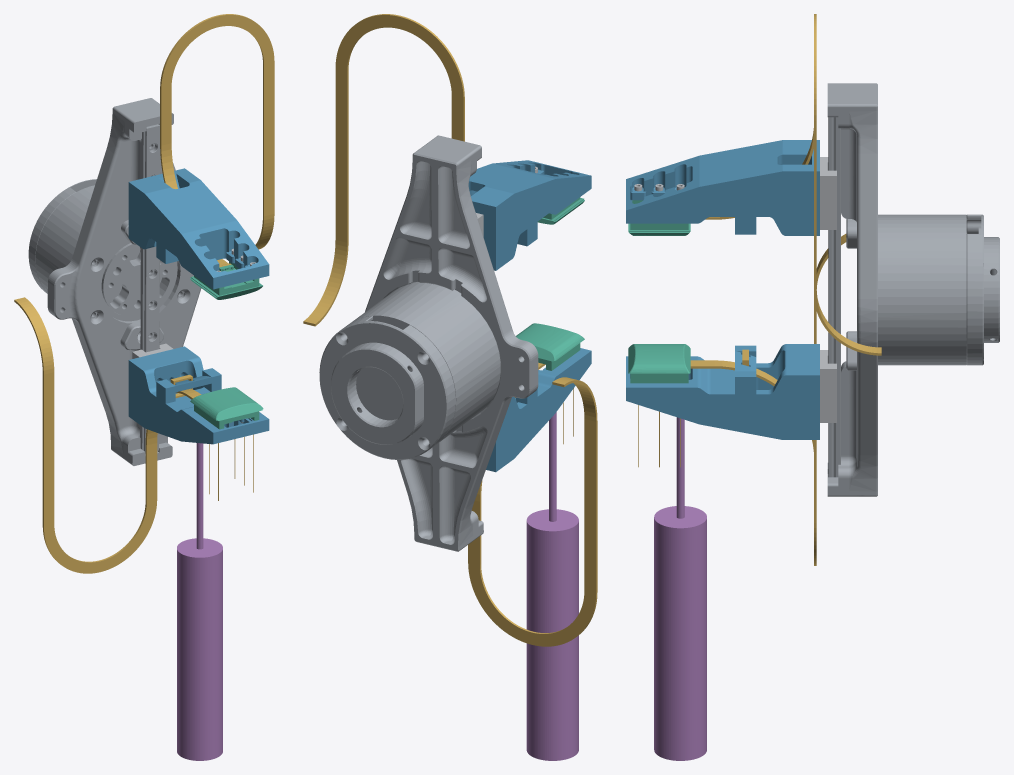
File: sensor_screw_access.glb
3 views of the same model, side by side, from view 1: azimuth 30°, elevation 25°; view 2: azimuth 150°, elevation 25°; view 3: azimuth 270°, elevation 25° (orthographic). The views are drawn at different scales.
Visible parts, largest first — view 1: original_actuator_and_transmission, S3_driver_reference_with_assumed_handle, replacement_finger_2, replacement_finger_1, service_loop_envelope_1, service_loop_envelope_2, M2324_1, M2324_2, moving_harness_envelope_2; view 2: original_actuator_and_transmission, S3_driver_reference_with_assumed_handle, replacement_finger_2, service_loop_envelope_2, service_loop_envelope_1, replacement_finger_1, M2324_1; view 3: original_actuator_and_transmission, S3_driver_reference_with_assumed_handle, replacement_finger_2, replacement_finger_1, M2324_1, service_loop_envelope_2, retained_carrier_1, retained_carrier_2, M2324_2, service_loop_envelope_1, moving_harness_envelope_1.
Boxes of the visible parts, x1,y1,x2,y2 form: original_actuator_and_transmission: (28,98,201,465); S3_driver_reference_with_assumed_handle: (177,443,222,760); replacement_finger_2: (128,168,269,289); replacement_finger_1: (128,346,269,444); service_loop_envelope_1: (14,297,157,573); service_loop_envelope_2: (160,14,274,249); M2324_1: (190,387,263,429); M2324_2: (190,261,262,299); moving_harness_envelope_2: (160,143,228,265); original_actuator_and_transmission: (319,135,538,551); S3_driver_reference_with_assumed_handle: (526,412,578,760); replacement_finger_2: (468,160,591,270); service_loop_envelope_2: (303,14,464,326); service_loop_envelope_1: (468,377,597,646); replacement_finger_1: (486,348,591,472); M2324_1: (516,323,584,370); original_actuator_and_transmission: (827,83,999,496); S3_driver_reference_with_assumed_handle: (654,417,706,760); replacement_finger_2: (626,140,819,235); replacement_finger_1: (626,344,819,439); M2324_1: (628,344,690,383); service_loop_envelope_2: (814,14,881,355); retained_carrier_1: (820,350,836,422); retained_carrier_2: (820,157,836,229); M2324_2: (628,200,690,235); service_loop_envelope_1: (814,234,846,565); moving_harness_envelope_1: (690,360,816,458).
Bounding box in the file's own units: 0.1152 × 0.3215 × 0.1412.
